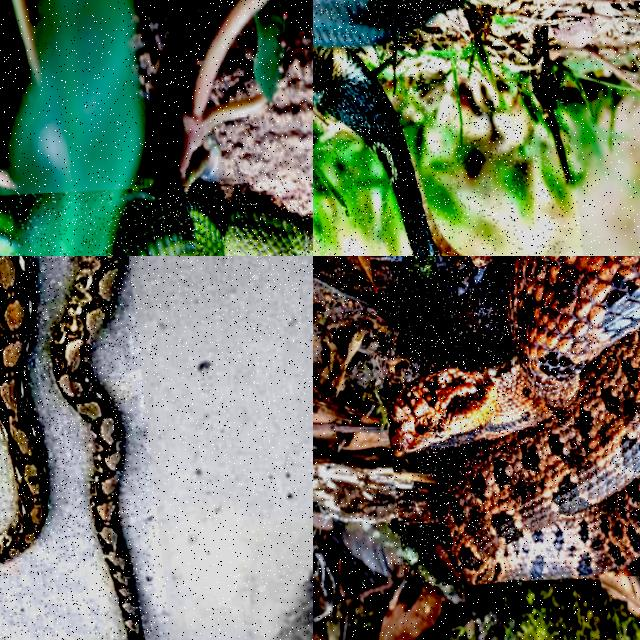Malayopython reticulatus: (52, 256, 142, 639)
Naja kaouthia: (313, 0, 465, 255)
Ovophis monticola: (389, 256, 639, 582)
Trimeresurus macrops: (110, 187, 312, 255)
